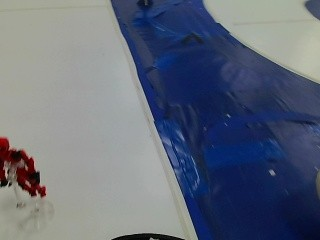pedestrian: (0, 133, 48, 200)
